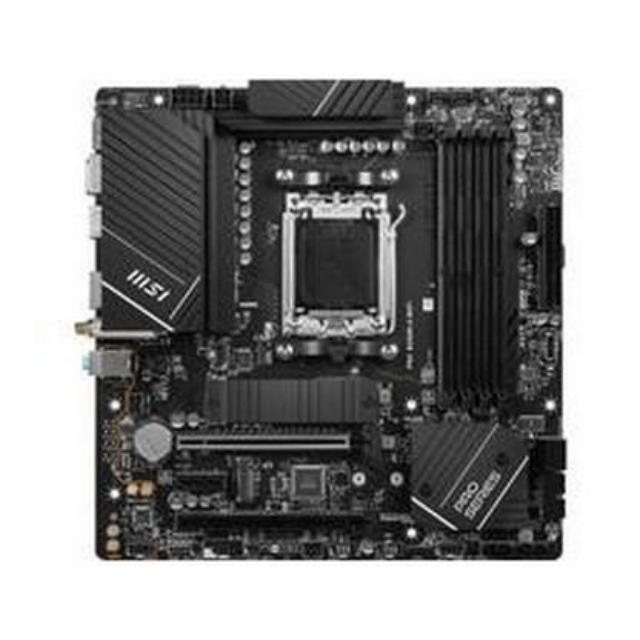Mainboard: (78, 68, 570, 574)
